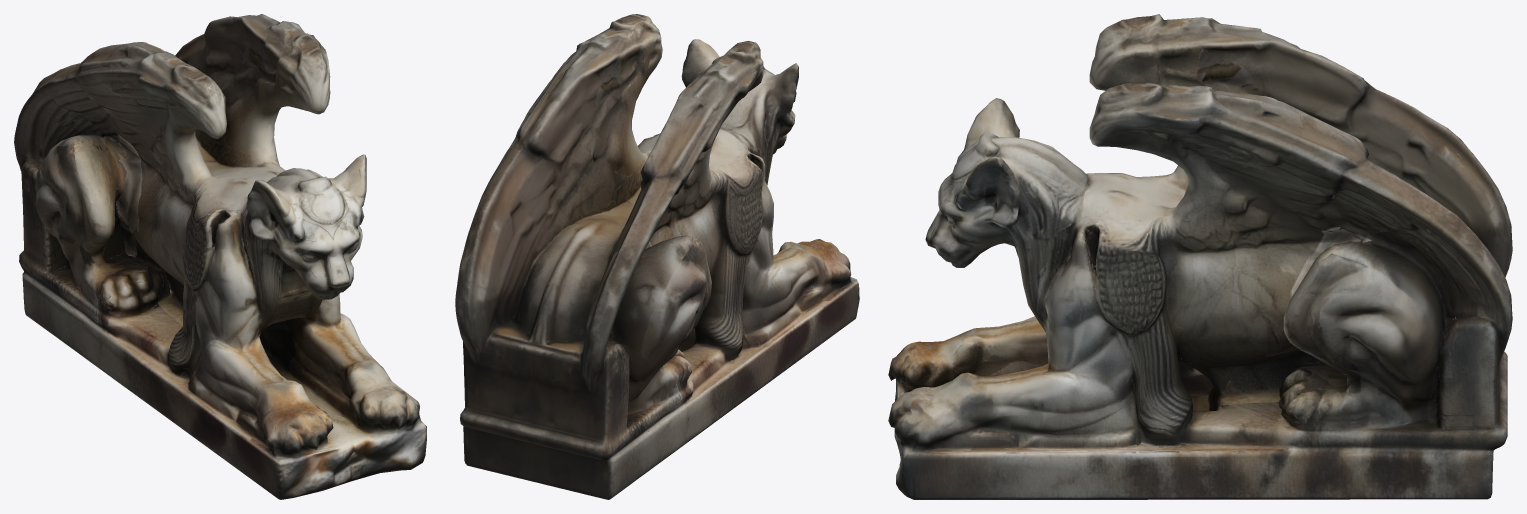
Rendered from Sphinx.glb.
3 views of the same model, side by side, from view 1: azimuth 30°, elevation 25°; view 2: azimuth 150°, elevation 25°; view 3: azimuth 270°, elevation 25° (orthographic). The views are drawn at different scales.
Visible parts, largest first — view 1: Mesh_0; view 2: Mesh_0; view 3: Mesh_0.
Part boxes in pixels (box(x1,y1,x2,y2)): Mesh_0: box(14, 14, 426, 499); Mesh_0: box(455, 14, 859, 499); Mesh_0: box(888, 14, 1512, 499).
Size of the model in its own units: 6.38 by 10 by 13.89.
Materials: 1 (1 with a texture image).
